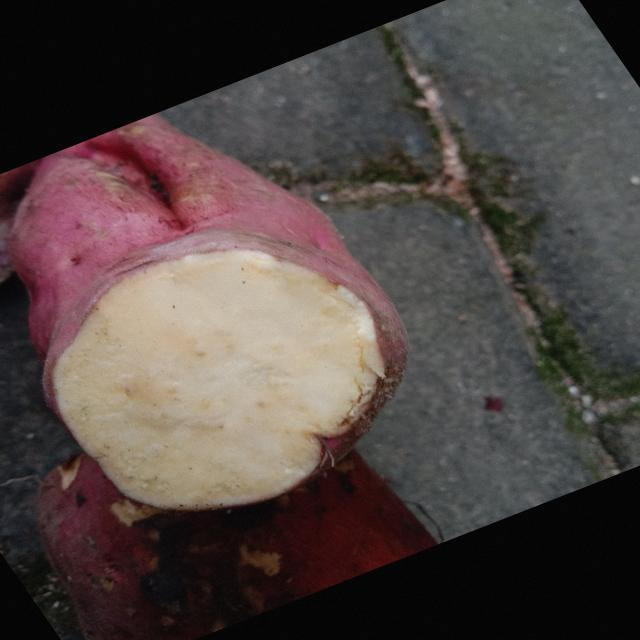Healthy Sweet Potato: (53, 250, 385, 510)
